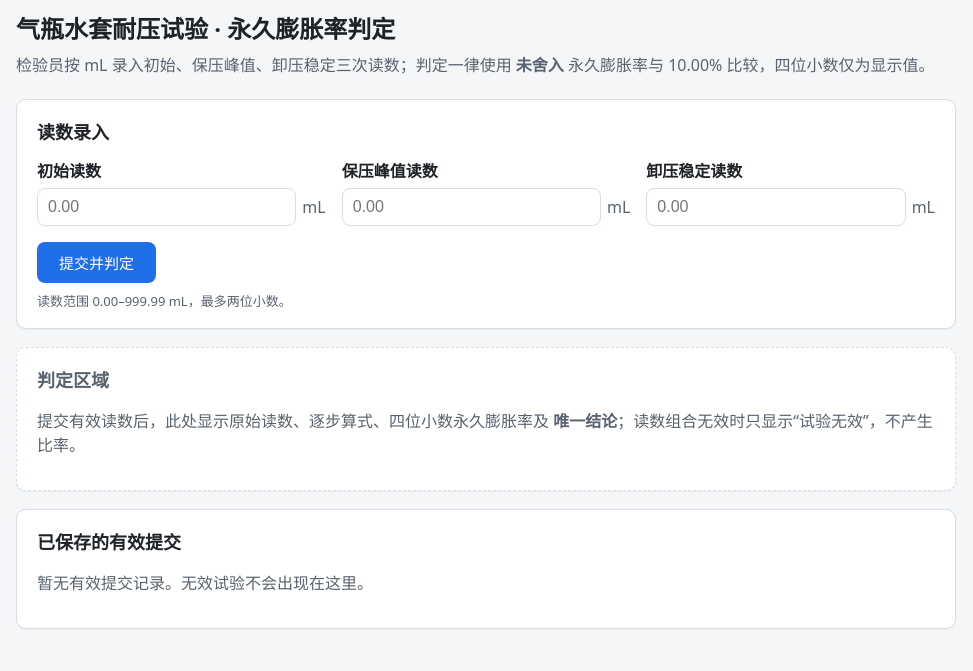
Test: App 判定流程（fetch 为接缝，展示与交互全真实） › 空字段阻止提交并提示
The image size is (973, 671).
Click the button with test id "submit-button" at (96, 262), box [37,242,156,283]
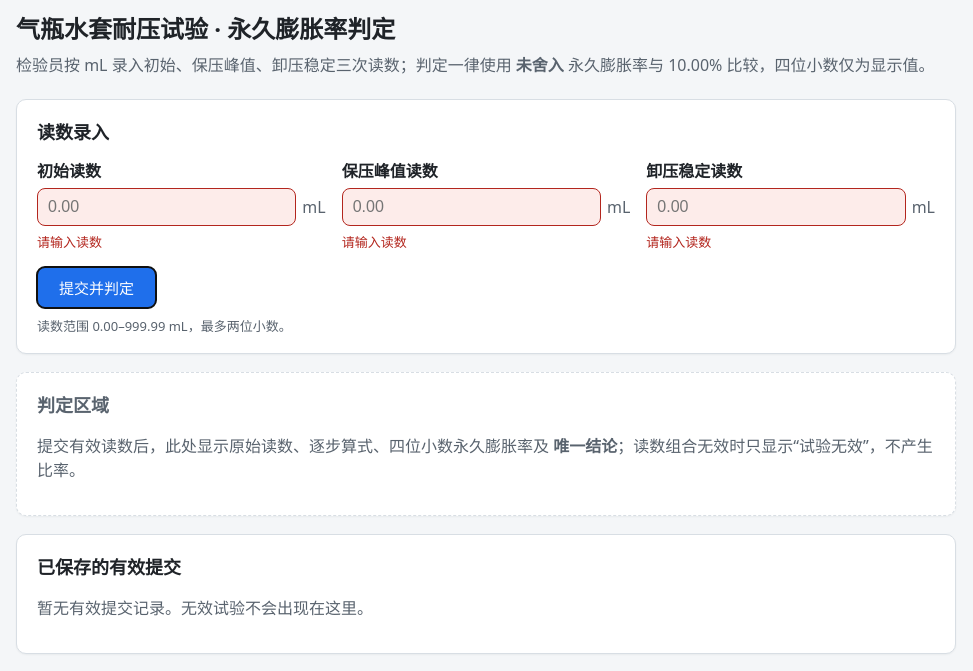
Expected: the text with test id "error-initial" reads "请输入读数", [37,233,102,251]
Expected: the text with test id "error-peak" reads "请输入读数", [342,233,407,251]
Expected: the text with test id "error-released" reads "请输入读数", [646,233,711,251]
